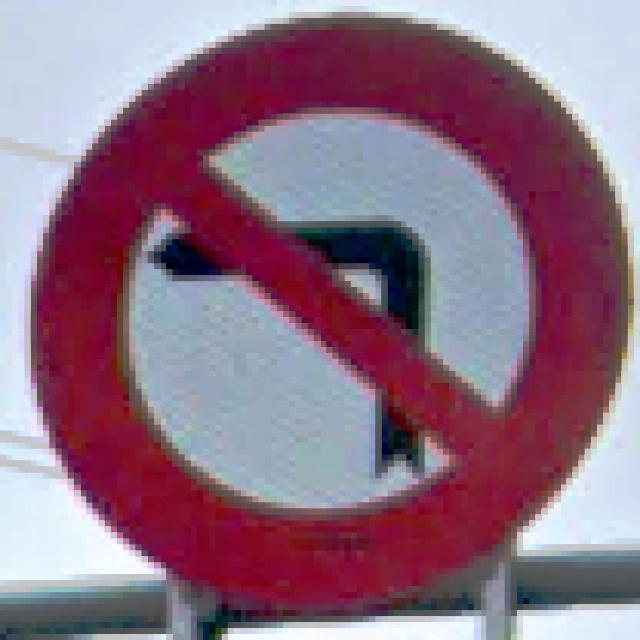noturnleft: (18, 6, 628, 610)
